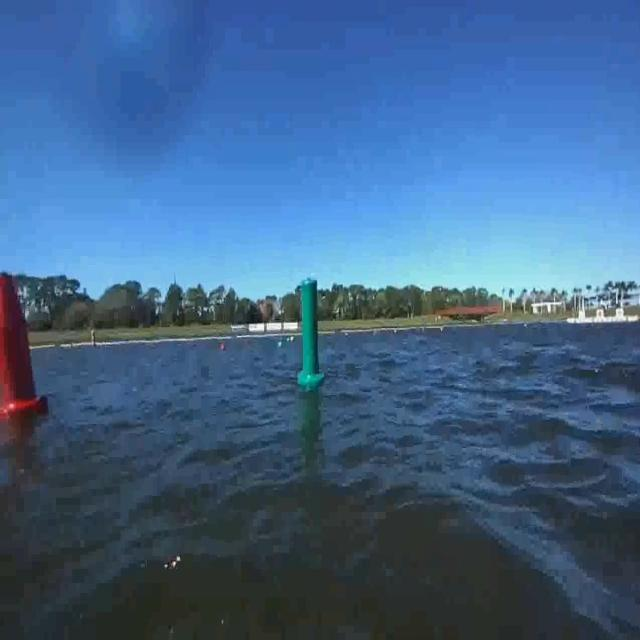green-column-buoy: (298, 276, 326, 389)
red-column-buoy: (0, 272, 47, 422)
